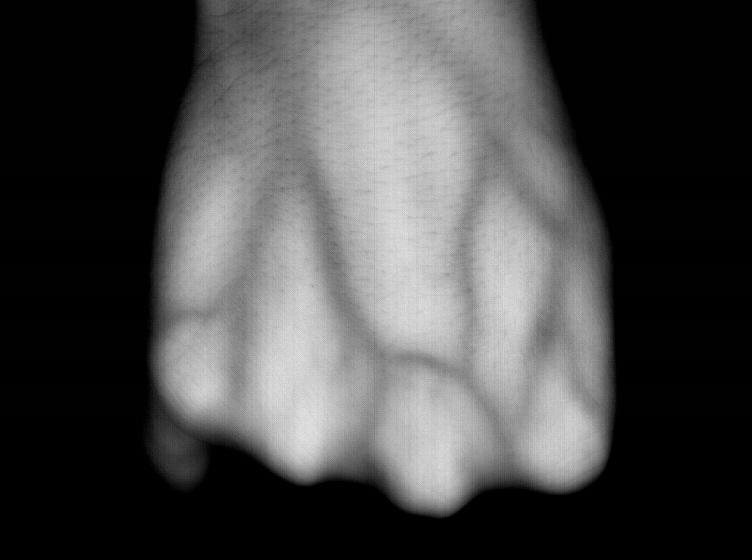Vein: (300, 132, 544, 397)
